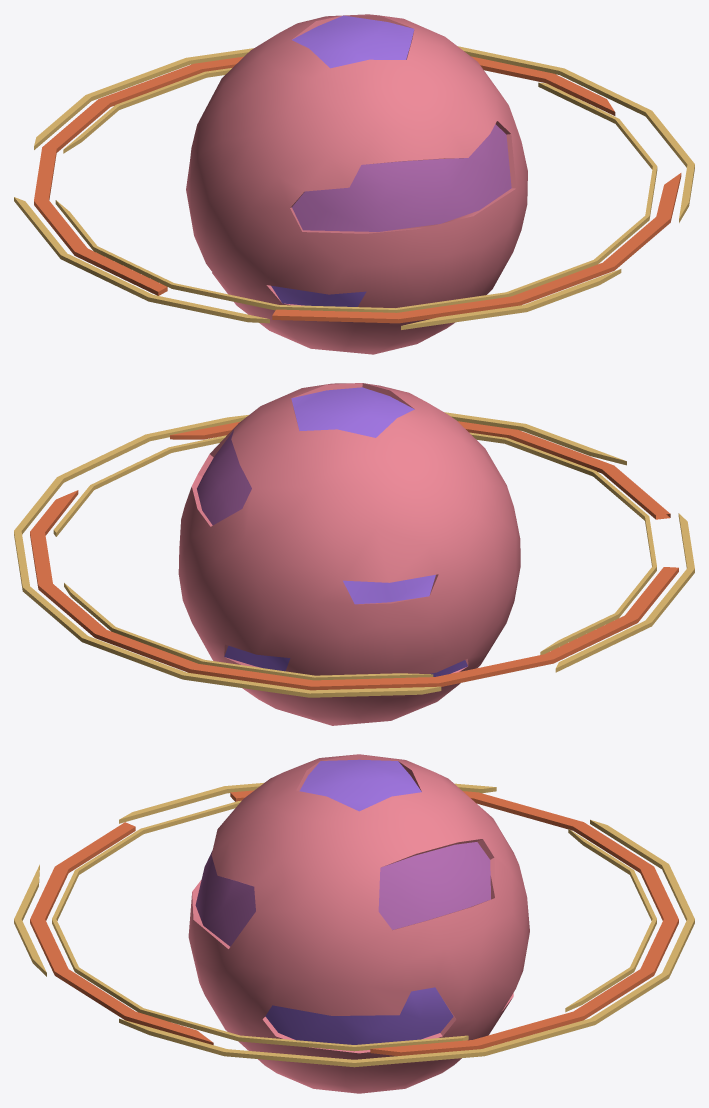
The model's file is planet-11.glb.
3 views of the same model, one above another, from view 1: azimuth 30°, elevation 25°; view 2: azimuth 150°, elevation 25°; view 3: azimuth 270°, elevation 25° (orthographic).
Visible parts, largest first — view 1: Toy_Planet_10_Rings_Toy_Planets_0, object 2; view 2: Toy_Planet_10_Rings_Toy_Planets_0, object 2; view 3: Toy_Planet_10_Rings_Toy_Planets_0, object 2.
Boxes of the visible parts, <box> form: Toy_Planet_10_Rings_Toy_Planets_0: <box>14,14,694,354</box>; object 2: <box>34,56,681,323</box>; Toy_Planet_10_Rings_Toy_Planets_0: <box>14,383,694,725</box>; object 2: <box>30,421,678,690</box>; Toy_Planet_10_Rings_Toy_Planets_0: <box>14,754,694,1093</box>; object 2: <box>30,790,678,1055</box>.
Bounding box in the file's own units: 4 × 1.93 × 4.
2 materials, 1 textured.
